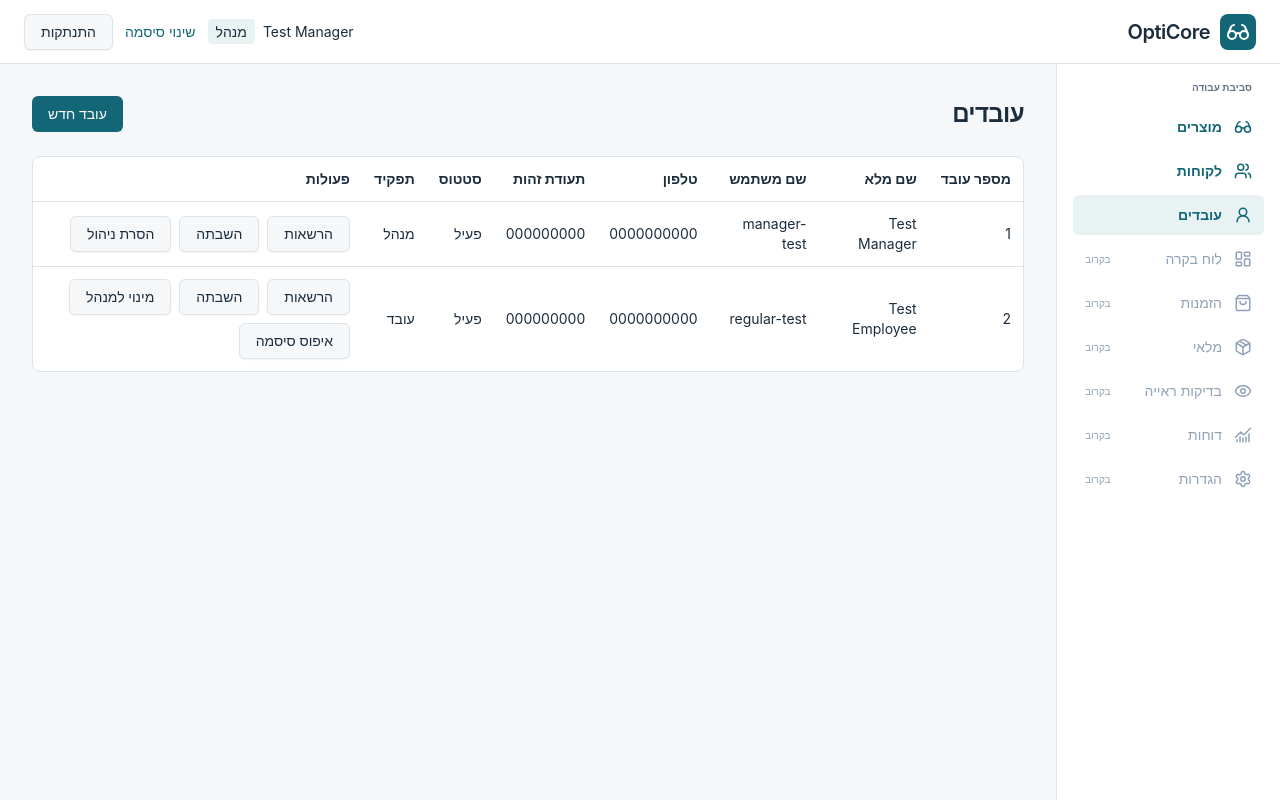
Test: offers manager permission actions, loads Hebrew catalog and assigned checkboxes
Click the button "הרשאות" in the row of "regular-test" at (309, 297), box [267,279,350,315]
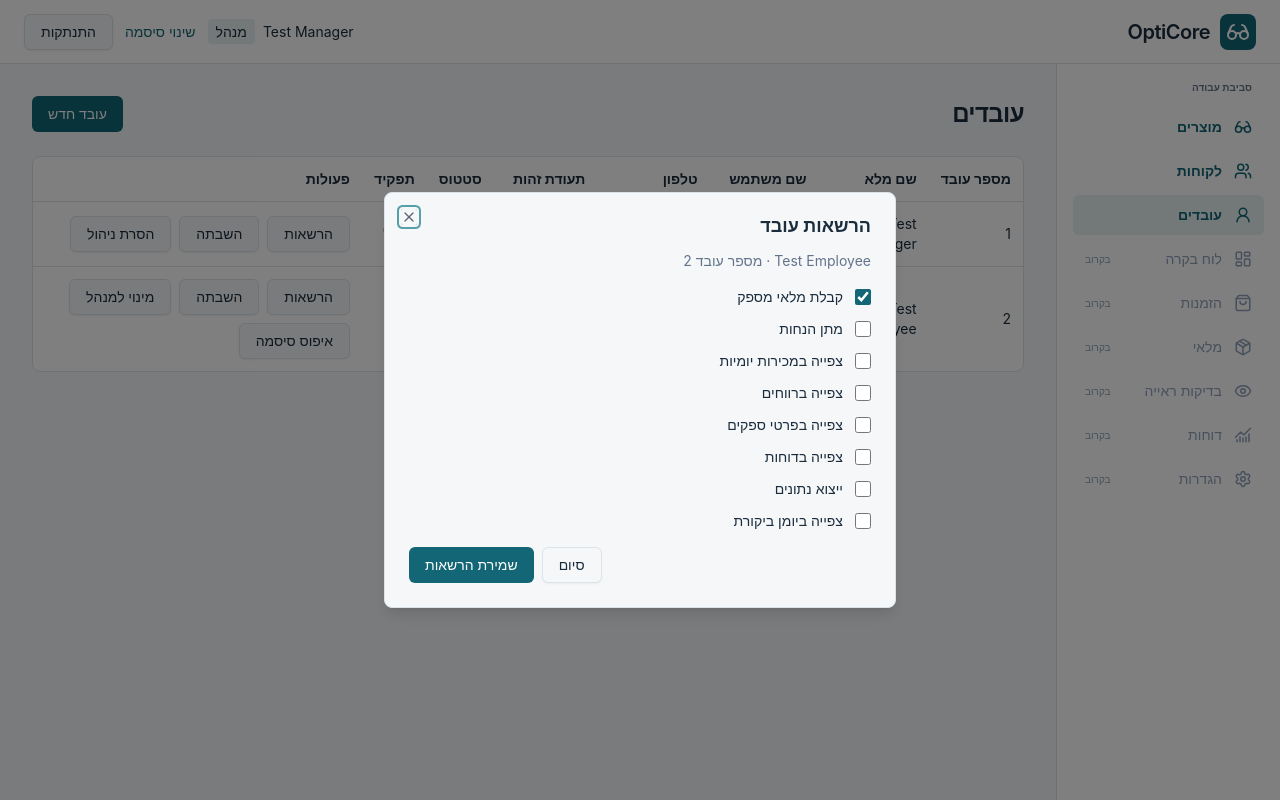
Expected: the checkbox labelled "קבלת מלאי מספק" is checked, [855,289,871,305]
Expected: the number of checkboxes is 8
Expected: the checkbox labelled "מתן הנחות" is not checked, [855,321,871,337]
